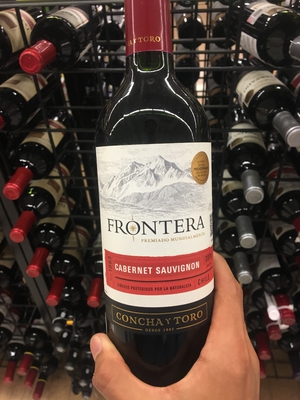frontera cabernet sauvignon: (98, 12, 230, 371)
